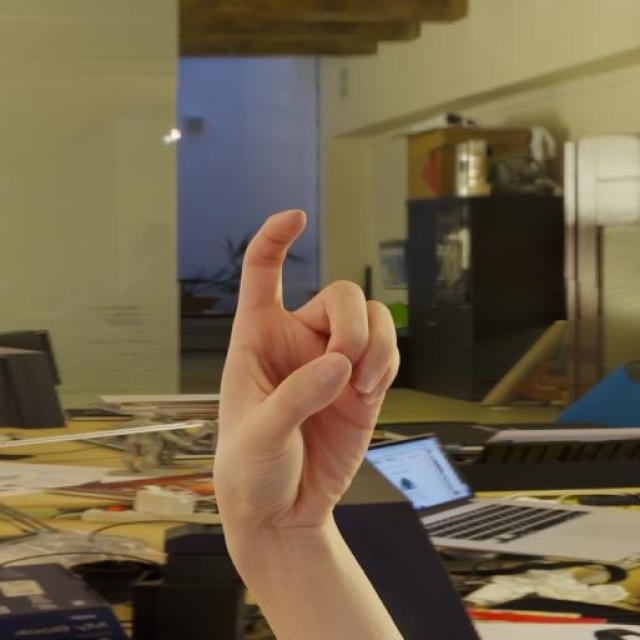X: (183, 183, 426, 595)
